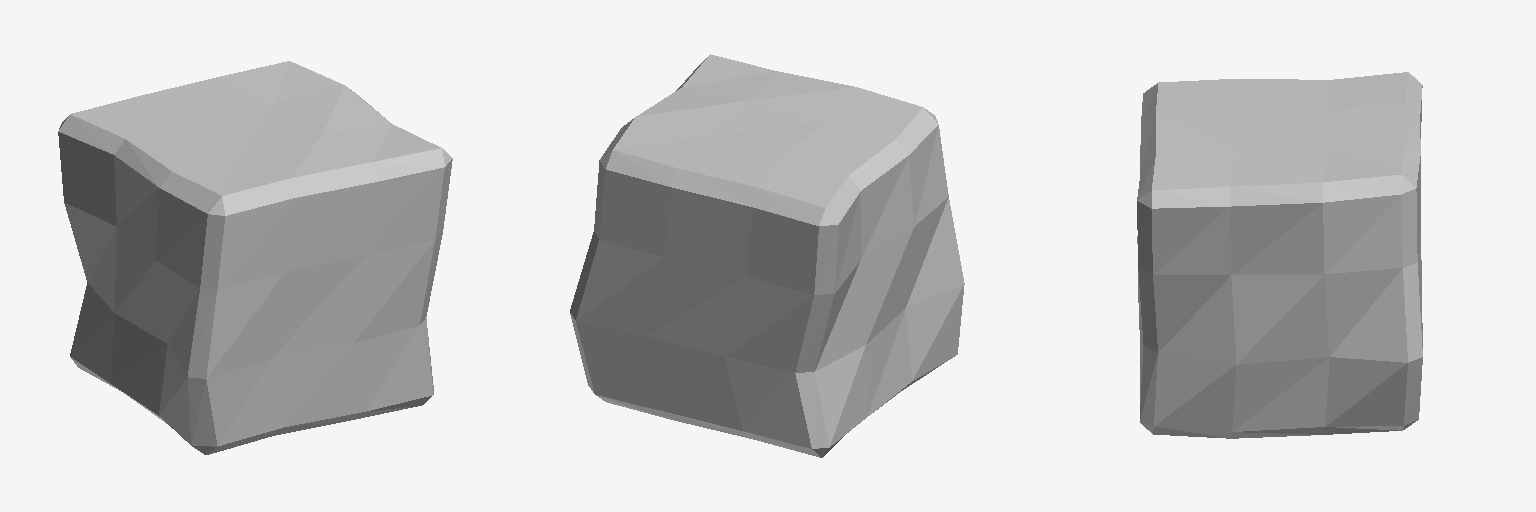
Rendered from Hielo 3.obj.
3 renders of one model, left to right at view 1: azimuth 30°, elevation 25°; view 2: azimuth 150°, elevation 25°; view 3: azimuth 270°, elevation 25°, orthographic.
Parts seen in each view (by area): view 1: Object004; view 2: Object004; view 3: Object004.
Boxes of the visible parts, box(x1,y1,x2,y2) form: Object004: box(58, 61, 452, 454); Object004: box(570, 54, 964, 457); Object004: box(1137, 72, 1422, 438).
Bounding box in the file's own units: 43.67 × 40.41 × 40.3.